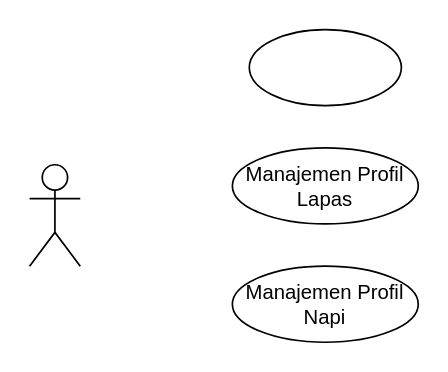
Some shapes in this 448 by 372 pixel diagram are drawn without their labels. The shapes that lost their labels are listed below. From the top down, each one's centre as x and y in pixels, then its label:
[324,67]: Login
[54,214]: Actor
